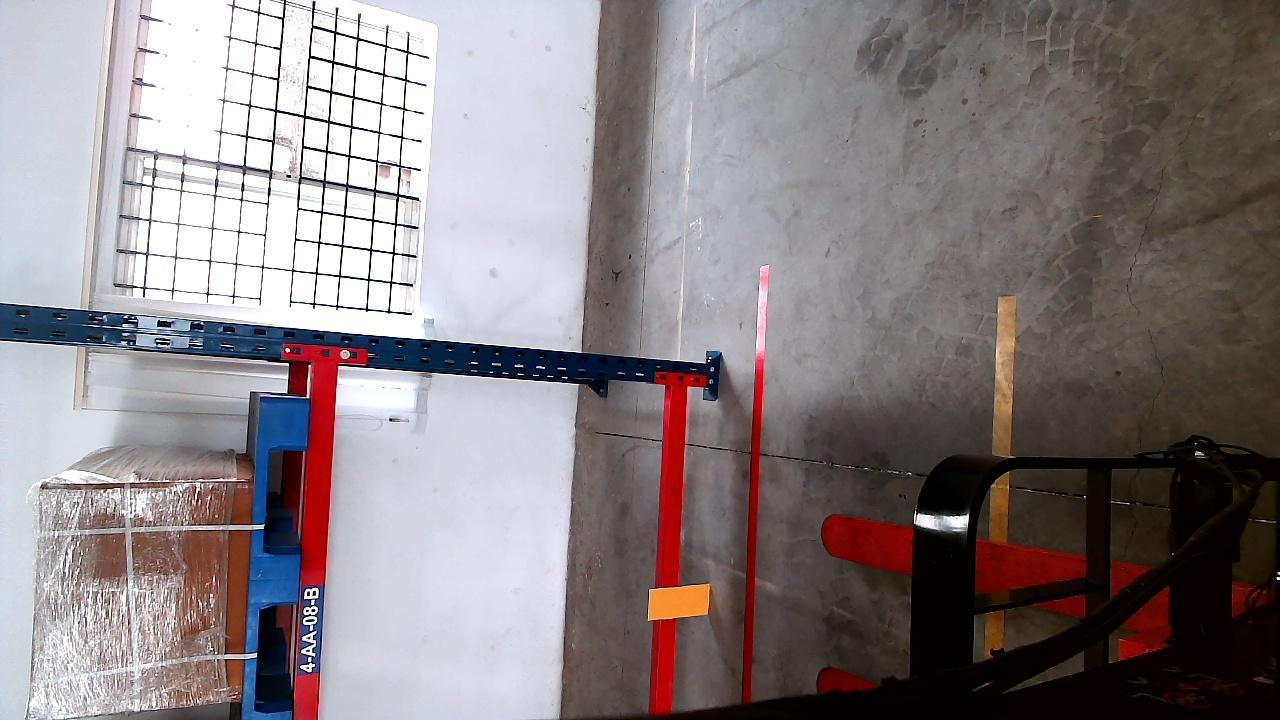red_line: (739, 263, 770, 704)
yellow_line: (985, 295, 1013, 651)
